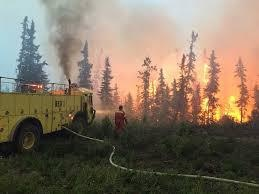fire: (142, 52, 258, 125), (27, 81, 43, 91)
